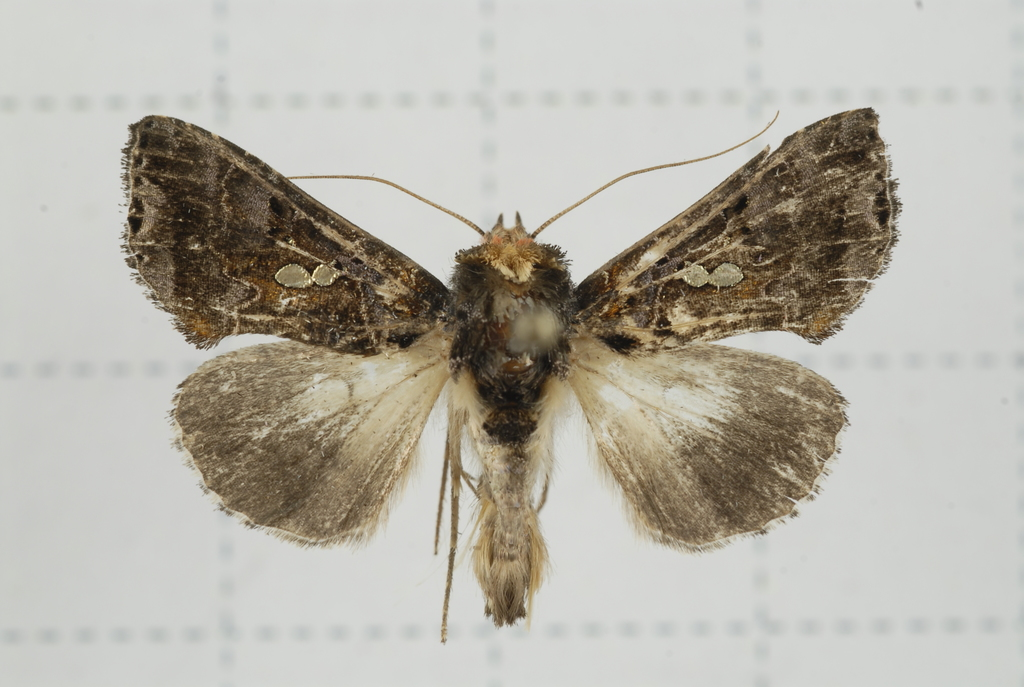Butterfly: (99, 94, 968, 666)
